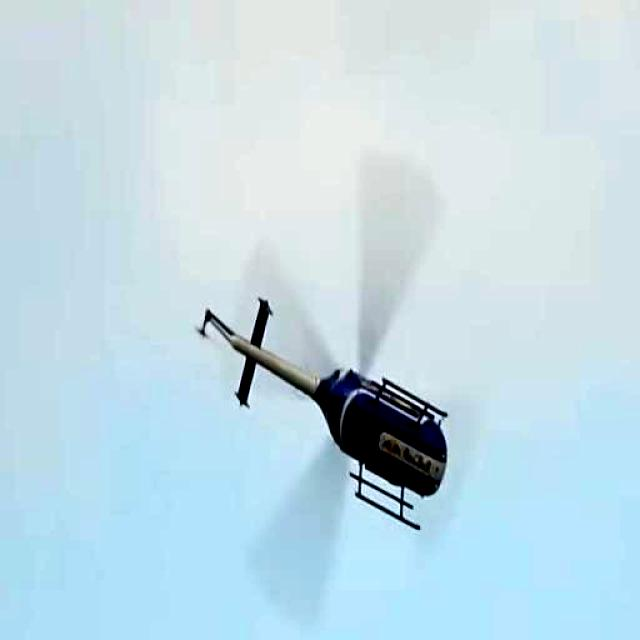drone: (179, 179, 482, 582)
